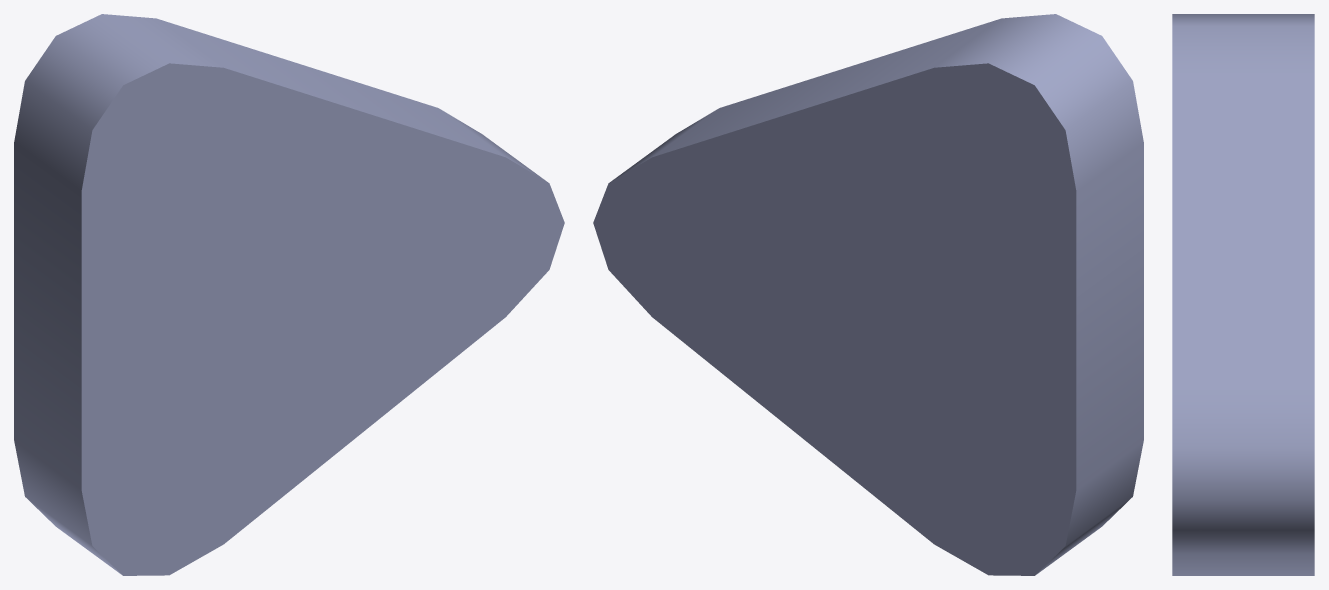
Rendered from Play Icon_2.fbx.
The picture shows the model from 3 angles, left to right: view 1: azimuth 30°, elevation 25°; view 2: azimuth 150°, elevation 25°; view 3: azimuth 270°, elevation 25°; orthographic projection. The views are drawn at different scales.
Parts seen in each view (by area): view 1: Play Icon_2; view 2: Play Icon_2; view 3: Play Icon_2.
Boxes of the visible parts, x1,y1,x2,y2 form: Play Icon_2: (14,14,564,575); Play Icon_2: (593,14,1143,575); Play Icon_2: (1172,14,1314,575).
Bounding box in the file's own units: 0.1683 × 0.1705 × 0.0407.
